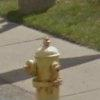Hydrant: (16, 31, 69, 100)
